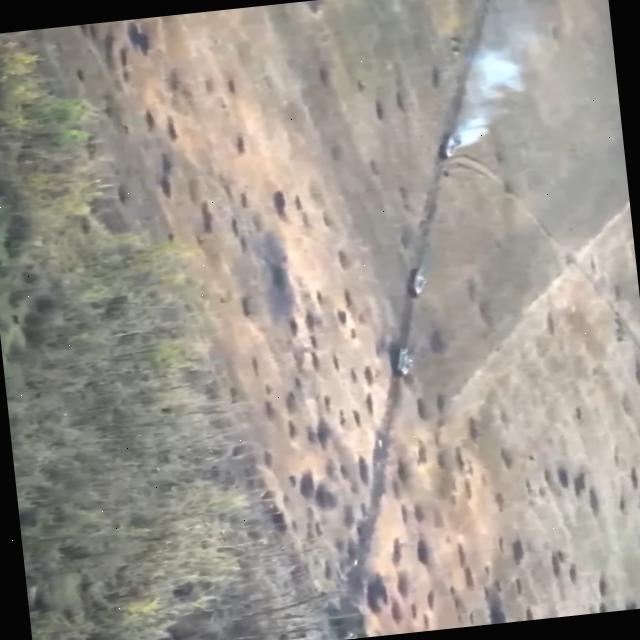AIFV: (403, 263, 434, 300), (388, 344, 419, 377), (437, 133, 465, 160)
